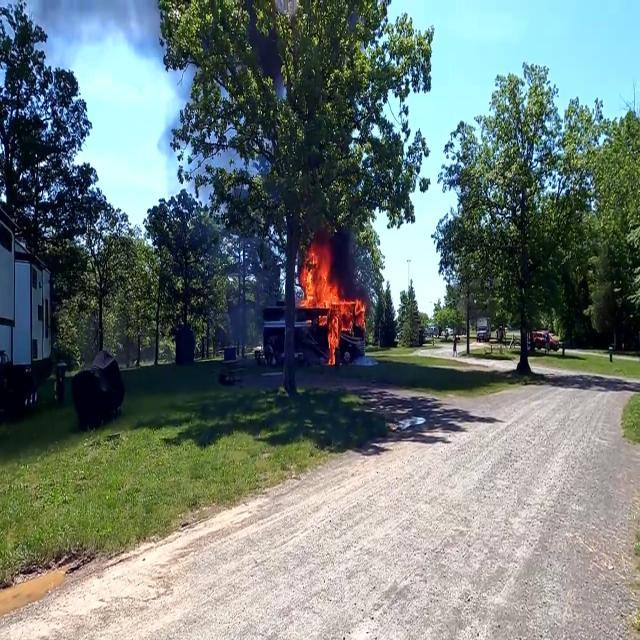Fire: (298, 242, 358, 360)
